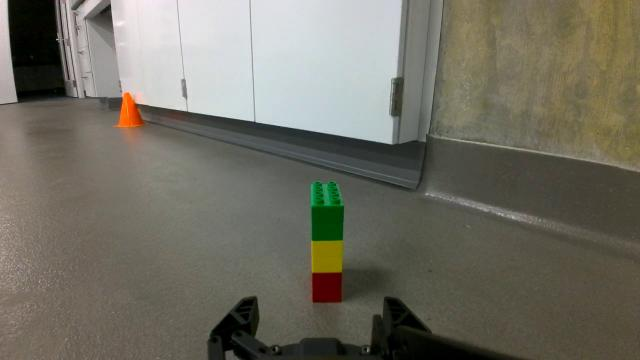lego: (305, 176, 352, 310)
